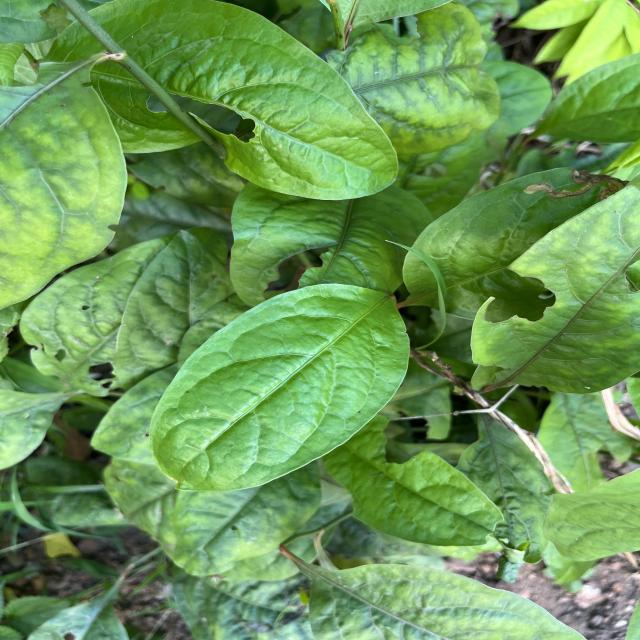Plumbago indica: (48, 0, 407, 206), (147, 280, 416, 498)
